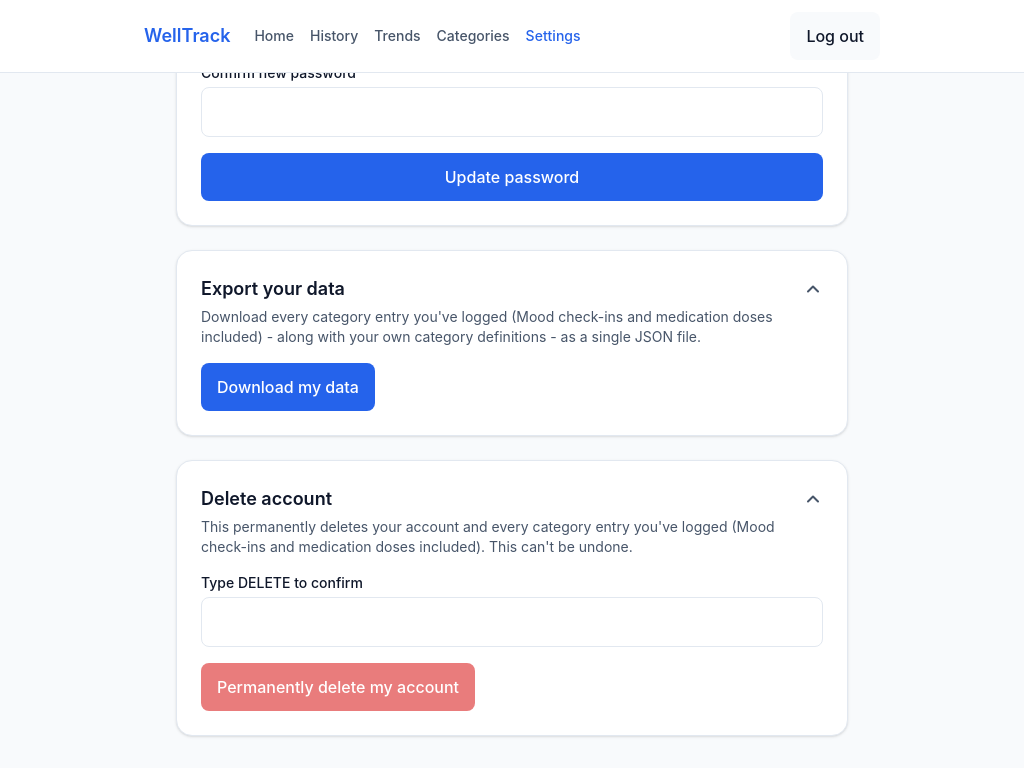
SettingsPage — account deletion › shows an error and does not navigate away when deletion fails
(page scrolled)
Step 1. Type "DELETE" into the field labelled "Type DELETE to confirm" → (512, 622), box [201,597,823,647]
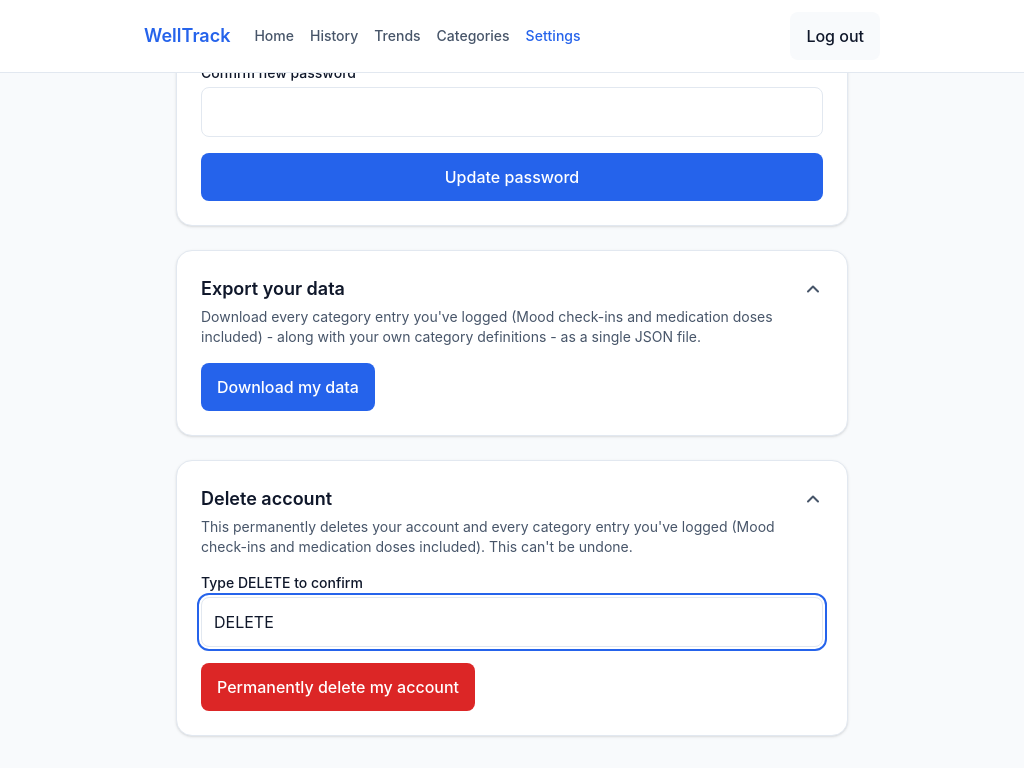
Step 2. Click the button "Permanently delete my account" → (338, 687), box [201,663,475,711]
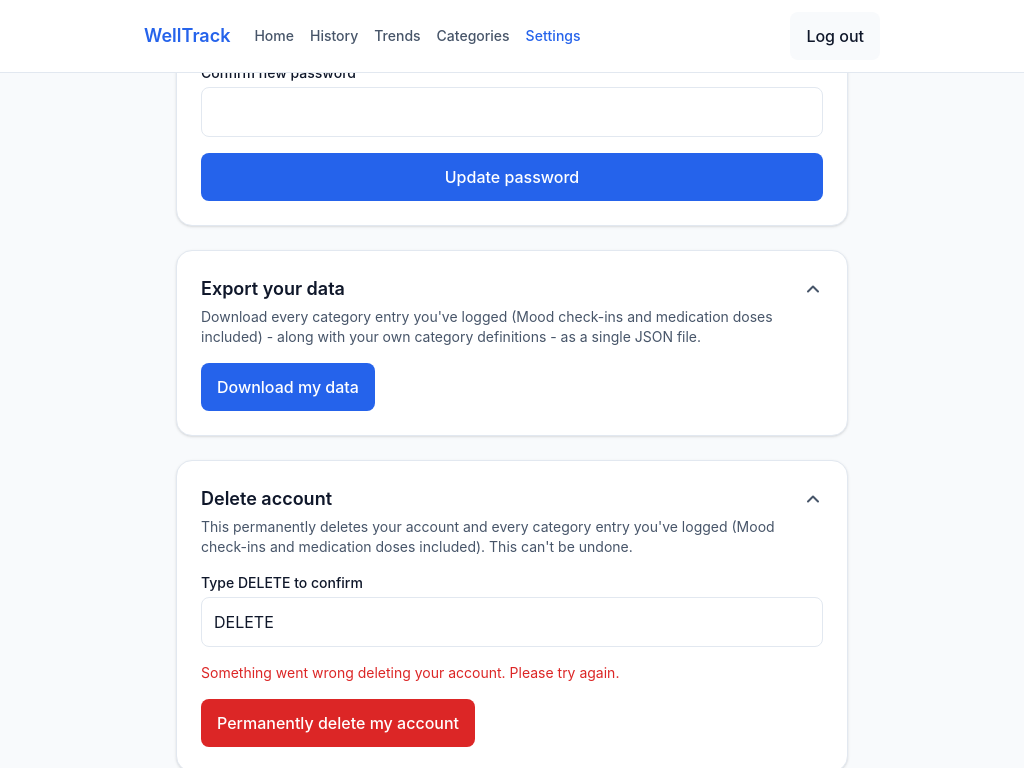
Check: the text "Something went wrong deleting your account. Please try again." is shown, box [201,664,619,681]
